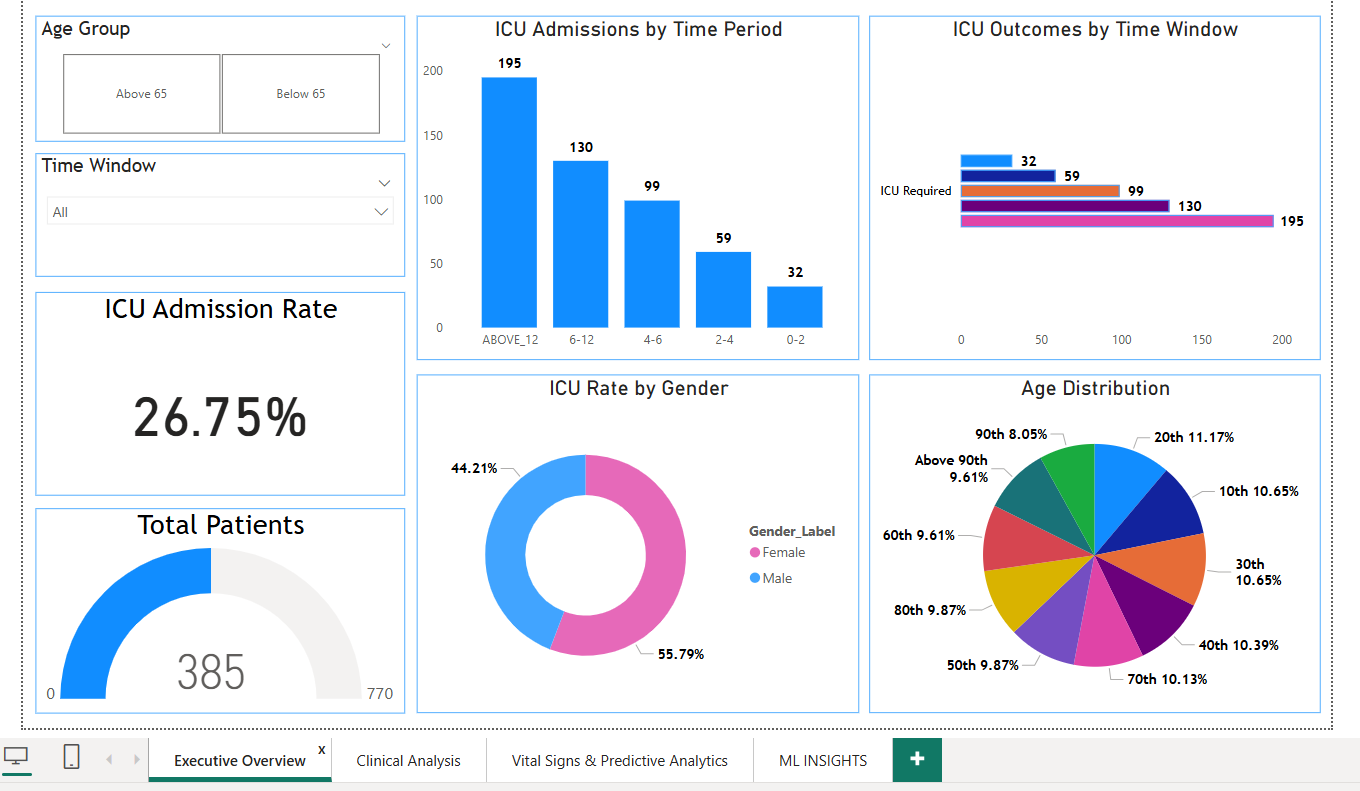

This screenshot's page, from the dashboard's own definition file:
{"tool":"powerbi","page":{"name":"Executive Overview","canvas":[1280,720],"ordinal":0},"visuals":[{"type":"card","title":"ICU Admission Rate","fields":{"Values":["Measure Table_1.ICU_Rate"]},"box":[11.9,292.9,361.3,199.3],"z":0},{"type":"donutChart","title":"ICU Rate by Gender","fields":{"Y":["Measure Table.ICU_Rate"],"Series":["Demographics.Gender_Label"]},"box":[384.8,374.5,433.2,331.3],"z":1000},{"type":"gauge","title":"Total Patients","fields":{"Y":["Measure Table_1.Total_Patients"]},"box":[11.9,505.6,361.3,200.7],"z":2000},{"type":"slicer","title":"Age Group","fields":{"Values":["Demographics.Age_Group"]},"box":[11.9,23.8,361.3,123.4],"z":3000},{"type":"clusteredColumnChart","title":"ICU Admissions by Time Period","fields":{"Category":["Outcome.WINDOW"],"Y":["Measure Table.ICU_Admissions"]},"box":[384.8,23.7,433.2,336.5],"z":4000},{"type":"slicer","title":"Time Window","fields":{"Values":["Outcome.WINDOW"]},"box":[11.9,157.6,361.3,120.4],"z":5000},{"type":"clusteredBarChart","title":"ICU Outcomes by Time Window","fields":{"Category":["Outcome.ICU_OUTCOME"],"Y":["Measure Table.ICU_Admissions"],"Series":["Outcome.WINDOW"]},"box":[827.3,23.7,441.4,336.5],"z":6000},{"type":"pieChart","title":"Age Distribution","fields":{"Y":["Measure Table.Total_Patients"],"Category":["Demographics.AGE_PERCENTIL"]},"box":[827.3,374.5,441.4,331.3],"z":7000}]}

Visuals, with their boxes on the page's 1280x720 design canvas (x1, y1, x2, y2). These are canvas units, not pixel positions in the 1360x791 screenshot, which may show the page scaled, cropped or inside an application window:
"ICU Admission Rate" card: 12/293/373/492
"ICU Rate by Gender" donutChart: 385/374/818/706
"Total Patients" gauge: 12/506/373/706
"Age Group" slicer: 12/24/373/147
"ICU Admissions by Time Period" clusteredColumnChart: 385/24/818/360
"Time Window" slicer: 12/158/373/278
"ICU Outcomes by Time Window" clusteredBarChart: 827/24/1269/360
"Age Distribution" pieChart: 827/374/1269/706
